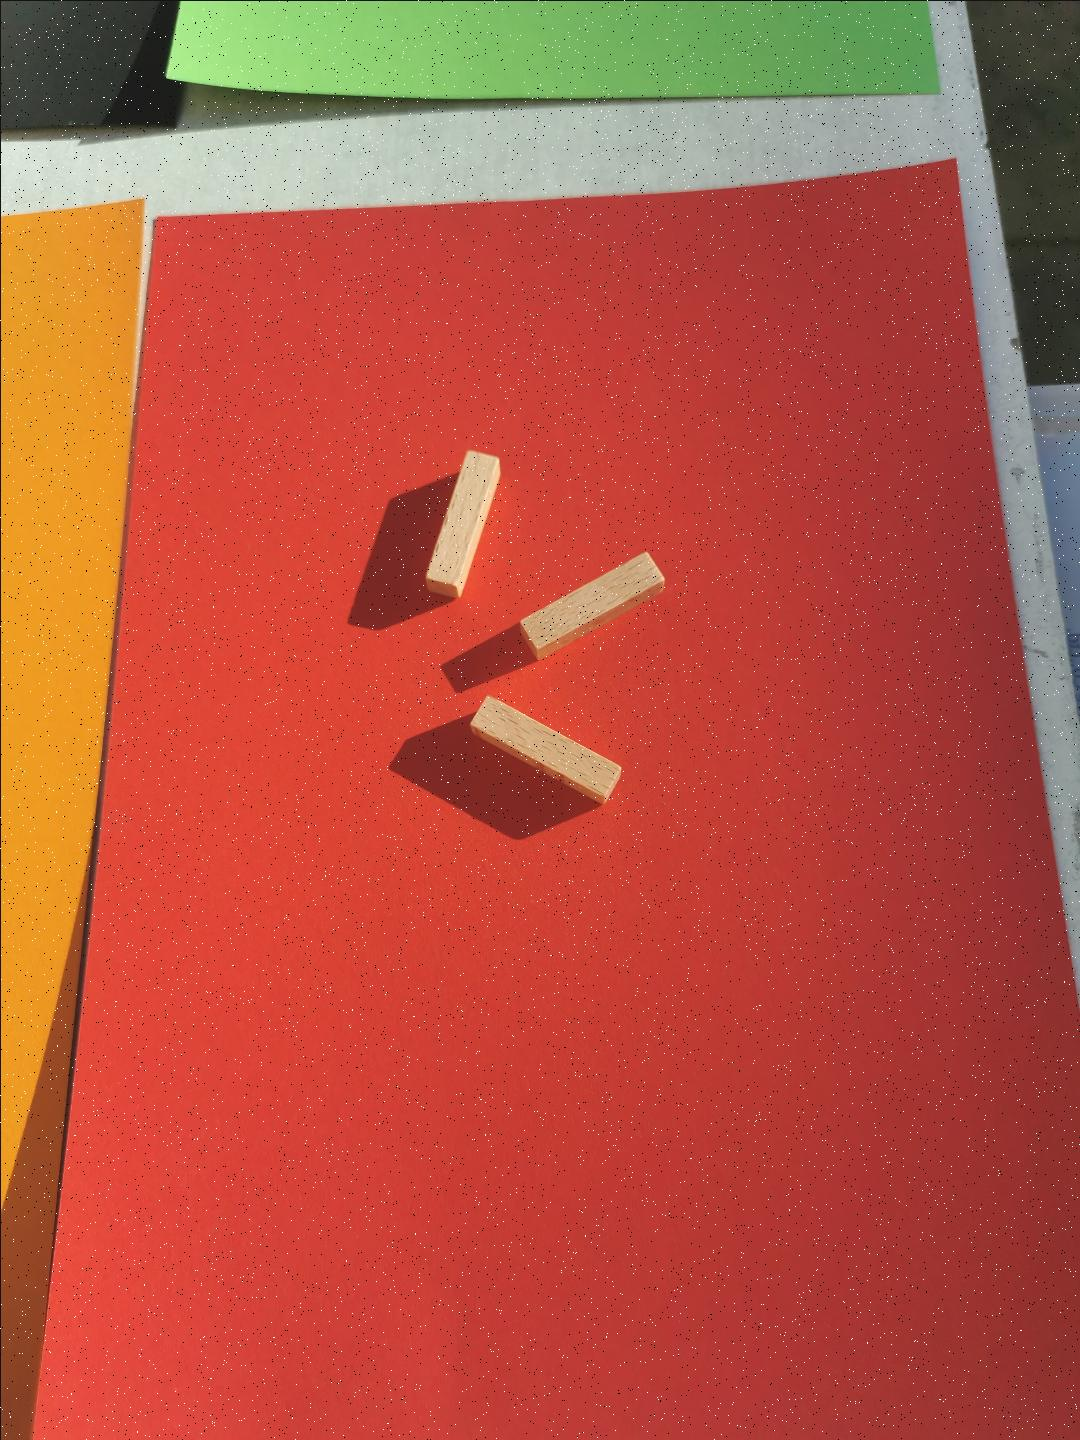jenga: (470, 695, 618, 802), (521, 551, 664, 658), (424, 450, 498, 596)
